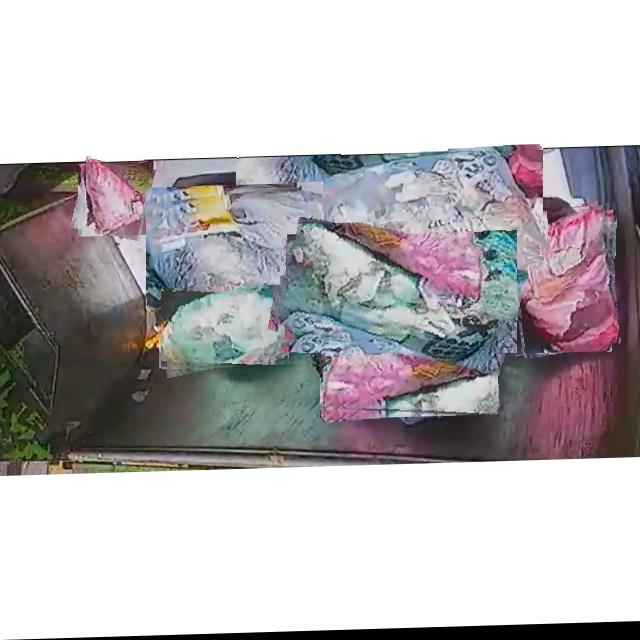general_trashbag: (278, 226, 516, 367), (162, 288, 281, 369)
other_trashbag: (237, 152, 542, 262), (149, 190, 322, 309), (323, 308, 496, 413), (509, 208, 618, 355), (86, 158, 147, 234)
